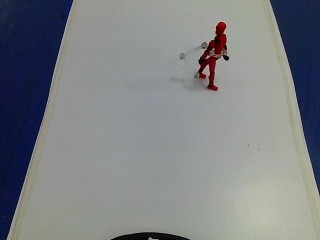pedestrian: (165, 16, 242, 99)
